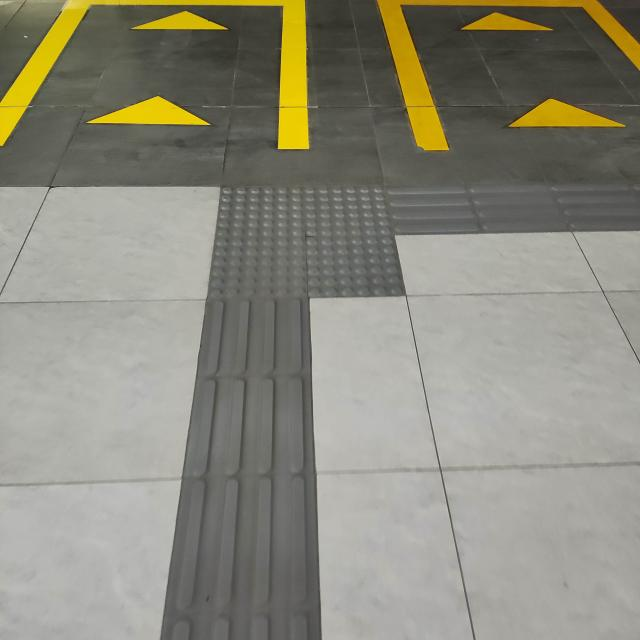kanan: (199, 162, 548, 329)
